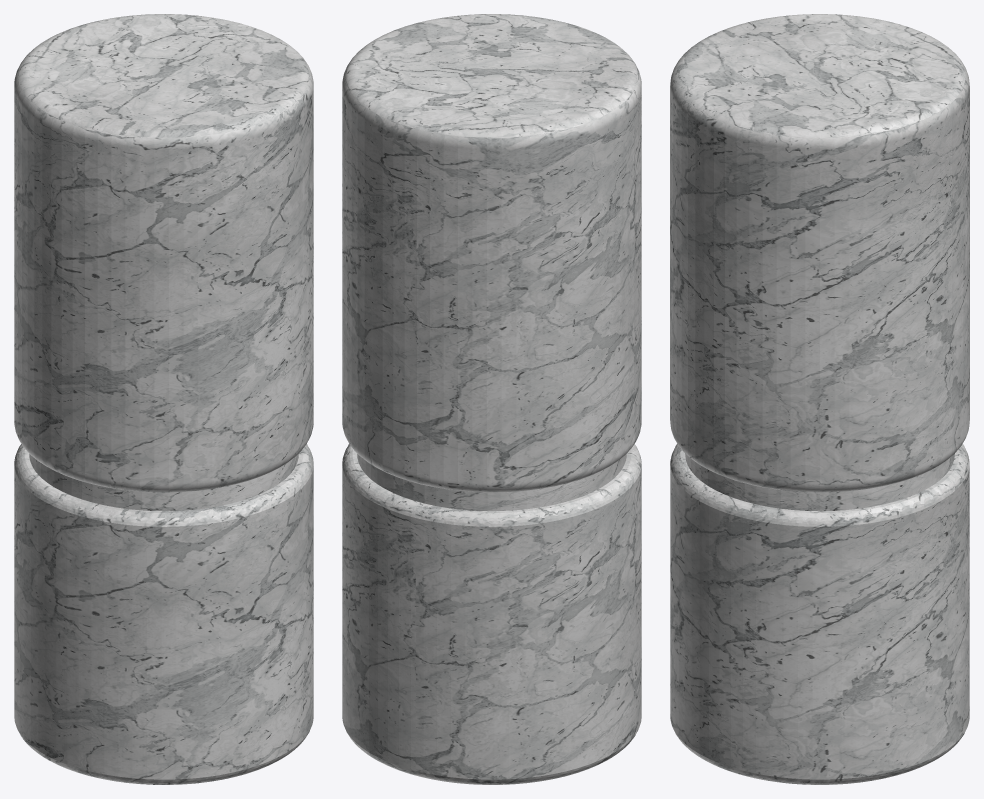
The model's file is tallLightFlatCylinder.glb.
3 views of the same model, side by side, from view 1: azimuth 30°, elevation 25°; view 2: azimuth 150°, elevation 25°; view 3: azimuth 270°, elevation 25° (orthographic).
Visible parts, largest first — view 1: tallLightFlatCylinder; view 2: tallLightFlatCylinder; view 3: tallLightFlatCylinder.
Boxes of the visible parts, x1=… form: tallLightFlatCylinder: x1=14, y1=14, x2=313, y2=784; tallLightFlatCylinder: x1=342, y1=14, x2=641, y2=784; tallLightFlatCylinder: x1=670, y1=14, x2=969, y2=784.
Size of the model in its own units: 2 by 4.81 by 2.
Materials: 3 (3 with a texture image).
